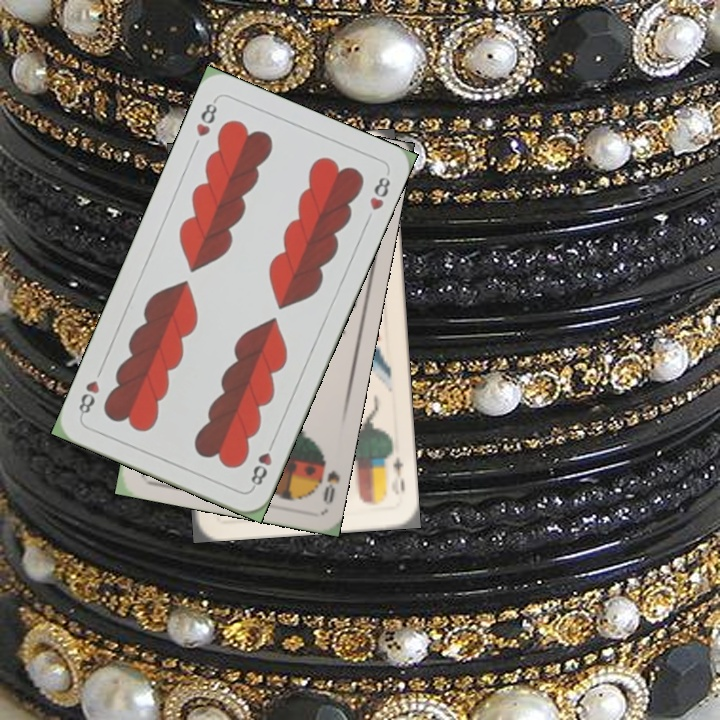EO: (381, 444, 408, 495)
H8: (247, 435, 278, 491), (192, 95, 220, 139)
SO: (312, 450, 342, 508)
